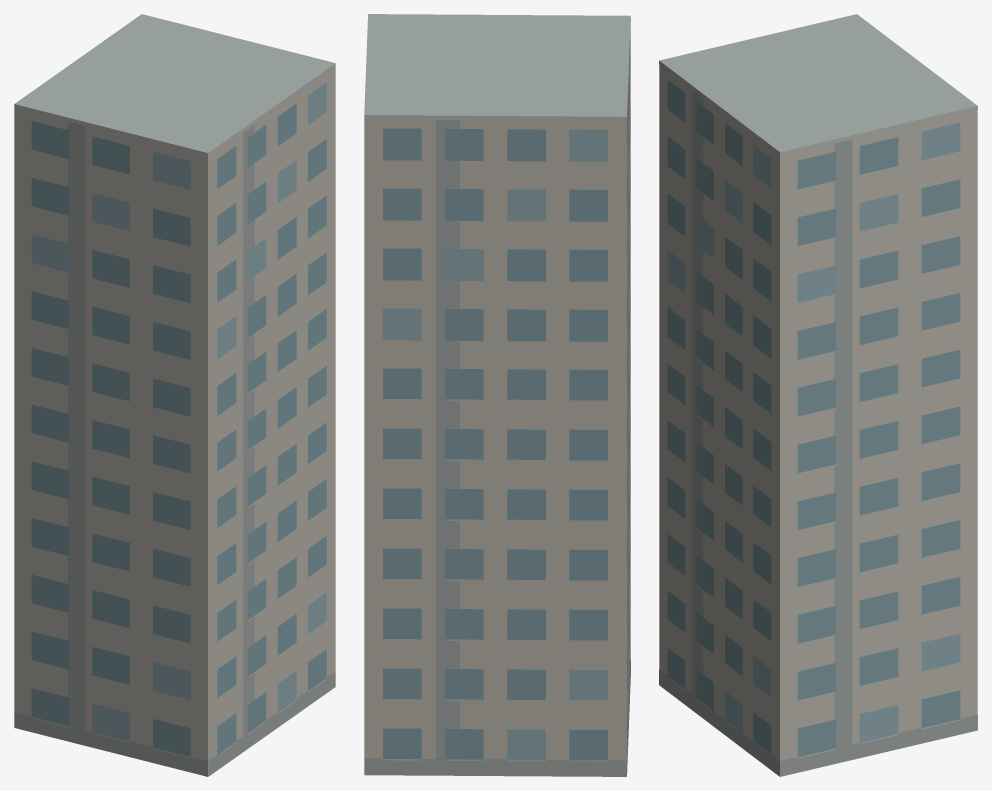
Rendered from residential-20549570-006a-4107-b36b-182cba2c0b8d.glb.
3 views of the same model, side by side, from view 1: azimuth 30°, elevation 25°; view 2: azimuth 150°, elevation 25°; view 3: azimuth 270°, elevation 25° (orthographic). The views are drawn at different scales.
Visible parts, largest first — view 1: residential-20549570-006a-4107-b36b-182cba2c0b8d.tmp; view 2: residential-20549570-006a-4107-b36b-182cba2c0b8d.tmp; view 3: residential-20549570-006a-4107-b36b-182cba2c0b8d.tmp.
Part boxes in pixels (left/top/right/bottom): residential-20549570-006a-4107-b36b-182cba2c0b8d.tmp: left=14, top=14, right=335, bottom=776; residential-20549570-006a-4107-b36b-182cba2c0b8d.tmp: left=364, top=14, right=630, bottom=776; residential-20549570-006a-4107-b36b-182cba2c0b8d.tmp: left=659, top=14, right=977, bottom=776.
Bounding box in the file's own units: 17.1 × 36 × 16.65.
